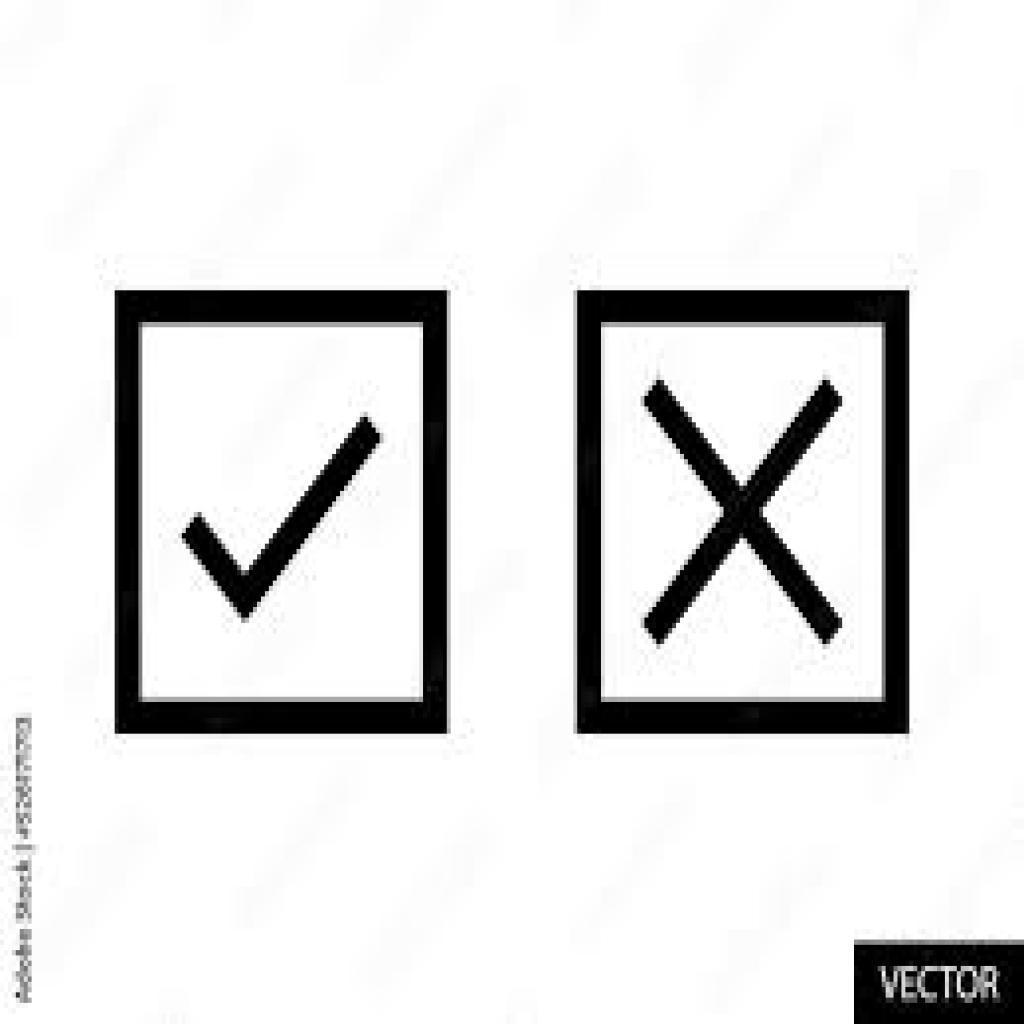checkbox: (580, 295, 909, 731), (117, 298, 447, 730)
